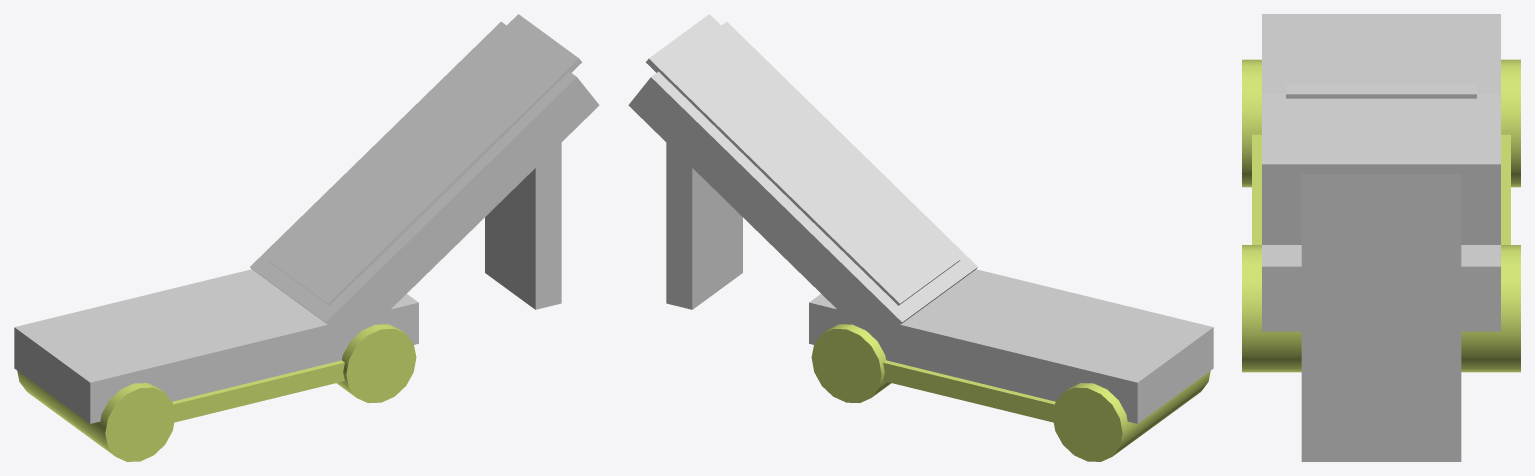
3 views of the same model, side by side, from view 1: azimuth 30°, elevation 25°; view 2: azimuth 150°, elevation 25°; view 3: azimuth 270°, elevation 25° (orthographic). The views are drawn at different scales.
Visible parts, largest first — view 1: part001, part003, part002, visualRoller (×2), part004, visualBelt; view 2: part001, part003, part002, visualRoller (×2), part004, visualBelt; view 3: part004, part001, part002, visualRoller (×2), part003, visualBelt.
Boxes of the visible parts, x1,y1,x2,y2 form: part001: (14,269,418,423); part003: (267,14,581,305); part002: (250,21,599,324); visualRoller (×2): (17,324,416,461); part004: (485,143,561,309); visualBelt: (172,360,344,422); part001: (809,269,1213,423); part003: (646,14,960,305); part002: (628,21,977,347); visualRoller (×2): (811,324,1210,461); part004: (666,143,742,309); visualBelt: (883,360,1055,422); part004: (1301,174,1461,461); part001: (1262,14,1500,331); part002: (1262,93,1500,244); visualRoller (×2): (1242,59,1520,372); part003: (1286,84,1476,98); visualBelt: (1252,134,1510,244).
Size of the model in its own units: 2.33 by 1.23 by 0.7.
